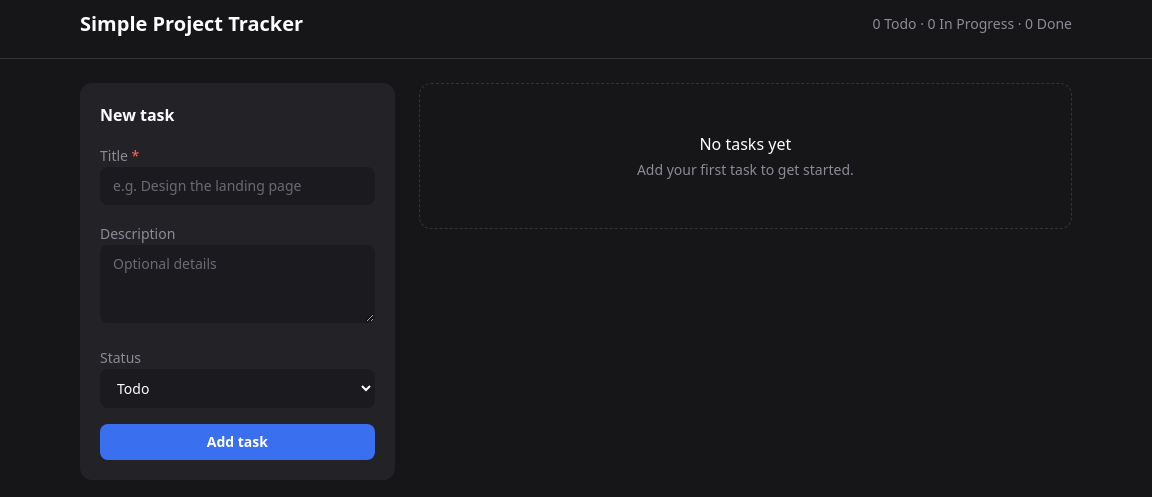
creating a task › adds the created task to the list and clears the form
Check: the text "No tasks yet" is shown, box 700,133 -> 791,155
Step 1. Type "  New task " into the field labelled "Title *" → [237, 186], box 100,167 -> 375,205
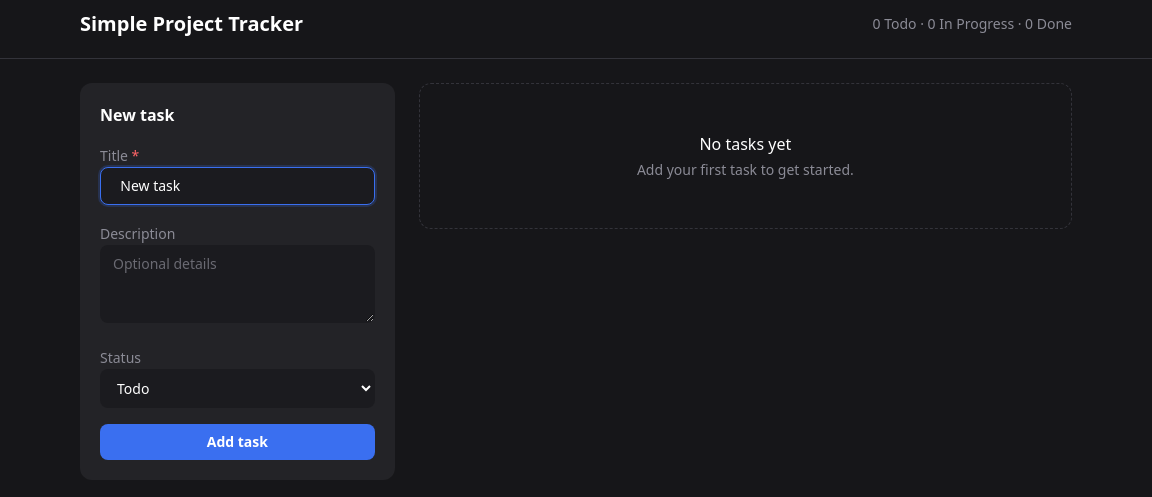
Step 2. Type "Details" into the text box labelled "Description" → [237, 284], box 100,245 -> 375,323
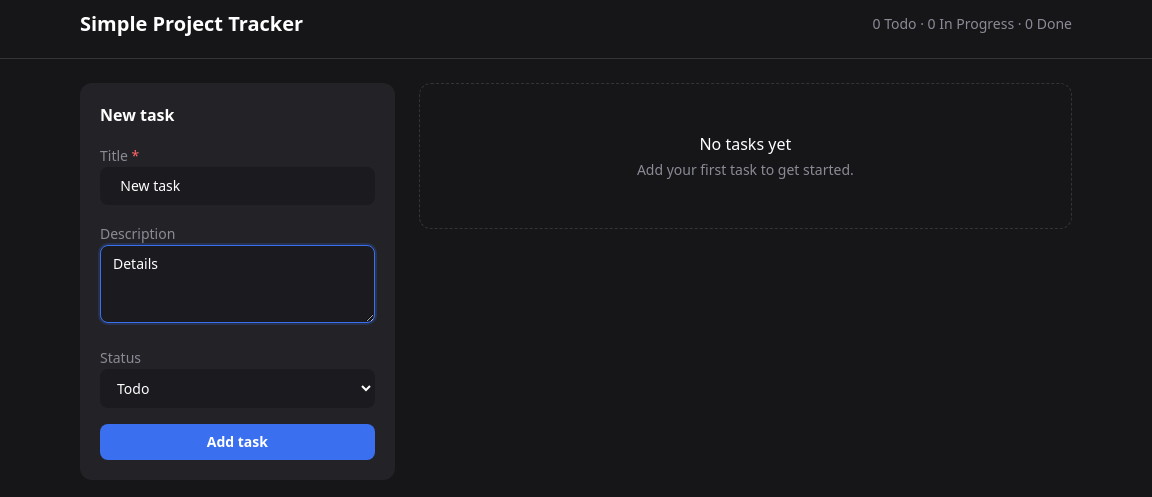
Step 3. Select "In Progress" in the dropdown labelled "Status" → [237, 388], box 100,369 -> 375,408
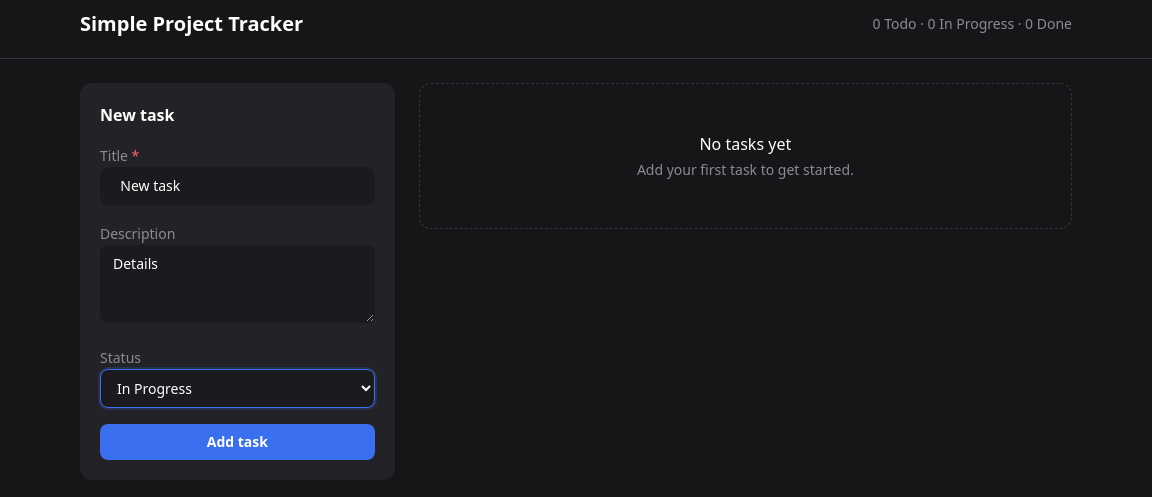
Step 4. Click the button "Add task" → [237, 442], box 100,424 -> 375,460
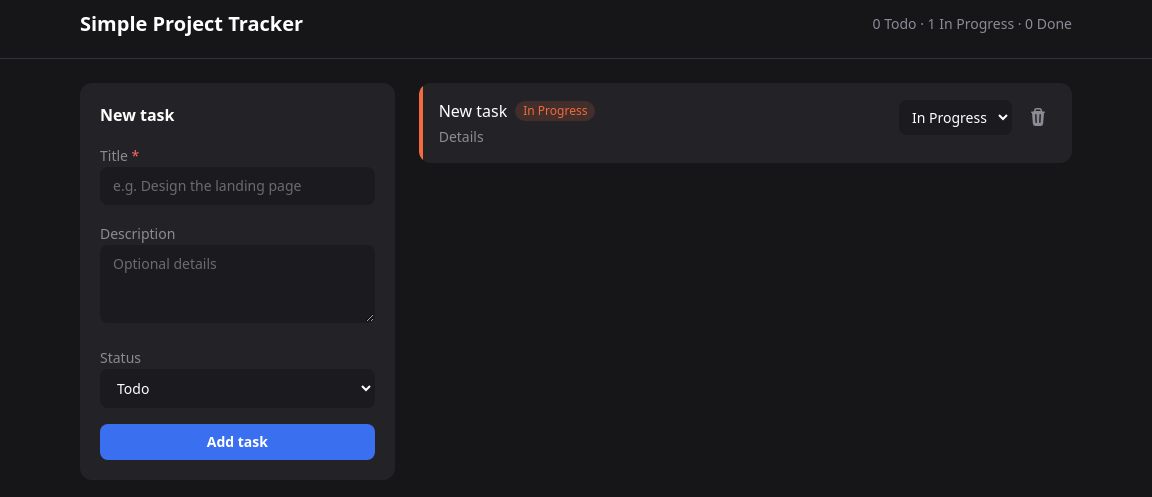
Check: the 2nd heading "New task" is shown, box 439,99 -> 507,123
Check: the field labelled "Title *" is empty, box 100,167 -> 375,205
Check: the text box labelled "Description" is empty, box 100,245 -> 375,323
